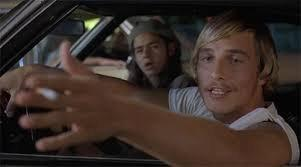Drunk: (193, 41, 254, 111), (133, 37, 168, 74)
